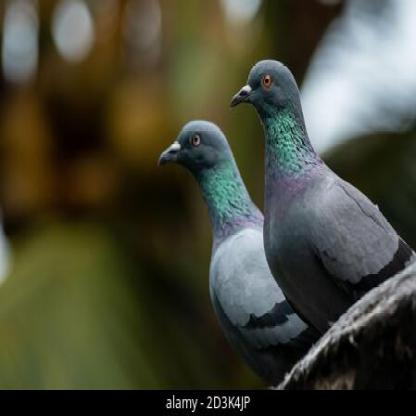Rock Pigeon: (234, 59, 397, 291), (155, 117, 264, 322)
